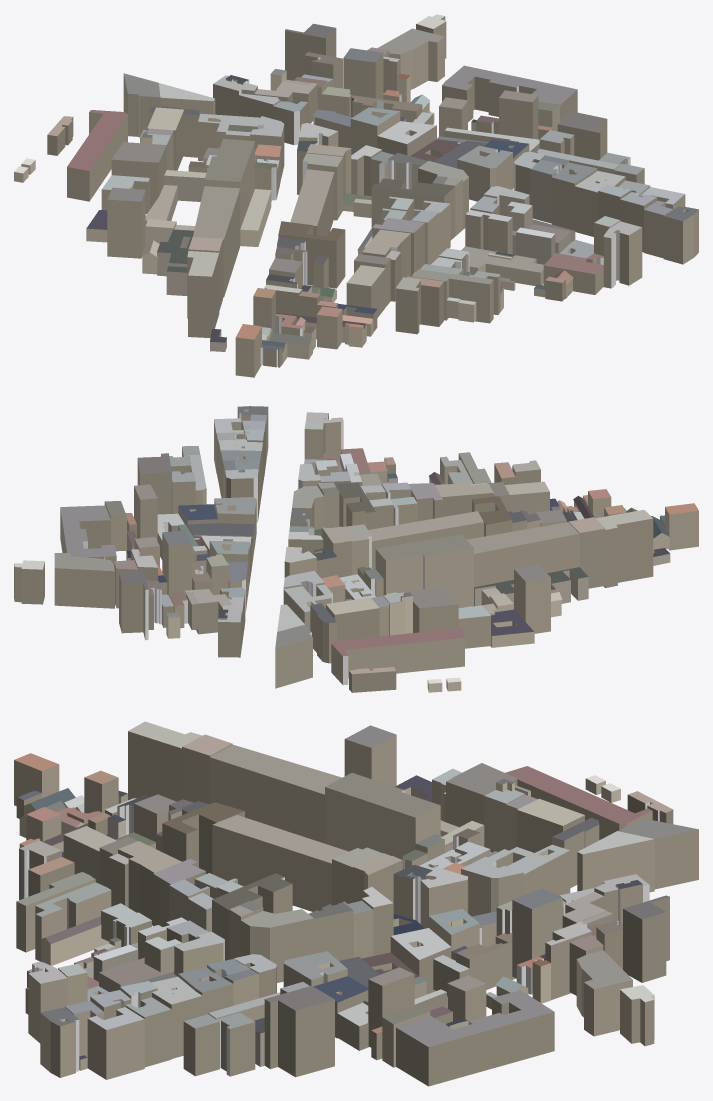
3 views of the same model, one above another, from view 1: azimuth 30°, elevation 25°; view 2: azimuth 150°, elevation 25°; view 3: azimuth 270°, elevation 25° (orthographic). The views are drawn at different scales.
Parts seen in each view (by area): view 1: tuile; view 2: tuile; view 3: tuile.
Part boxes in pixels (x1,y1,x2,y2): tuile: (14, 14, 698, 377); tuile: (14, 406, 698, 692); tuile: (14, 721, 698, 1086).
Bounding box in the file's own units: 278 × 45.61 × 271.
